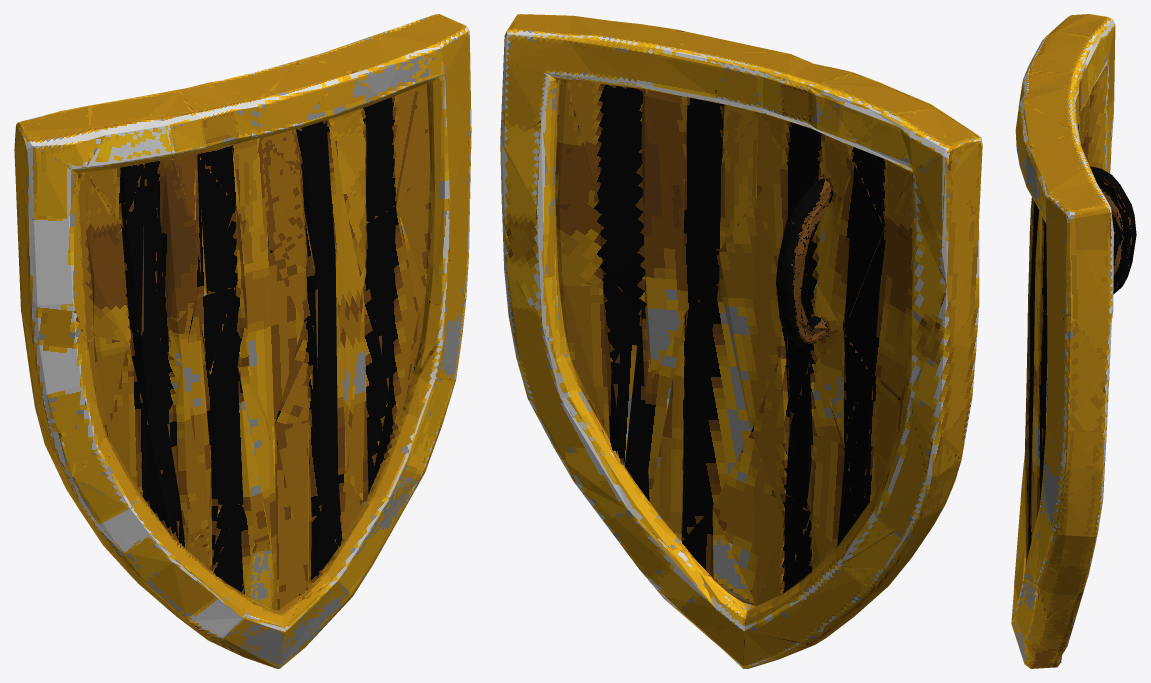
3 views of the same model, side by side, from view 1: azimuth 30°, elevation 25°; view 2: azimuth 150°, elevation 25°; view 3: azimuth 270°, elevation 25° (orthographic). The views are drawn at different scales.
Parts seen in each view (by area): view 1: OBJ037; view 2: OBJ037; view 3: OBJ037.
Boxes of the visible parts, box(x1,y1,x2,y2) form: OBJ037: box(14, 14, 471, 668); OBJ037: box(500, 14, 982, 668); OBJ037: box(1011, 14, 1136, 668).
Size of the model in its own units: 0.2861 by 0.3579 by 0.0725.
1 material, 1 textured.
